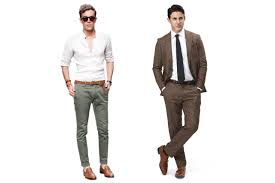F_belt: (161, 76, 205, 89), (69, 79, 112, 88)
F_tie: (171, 31, 190, 85)
